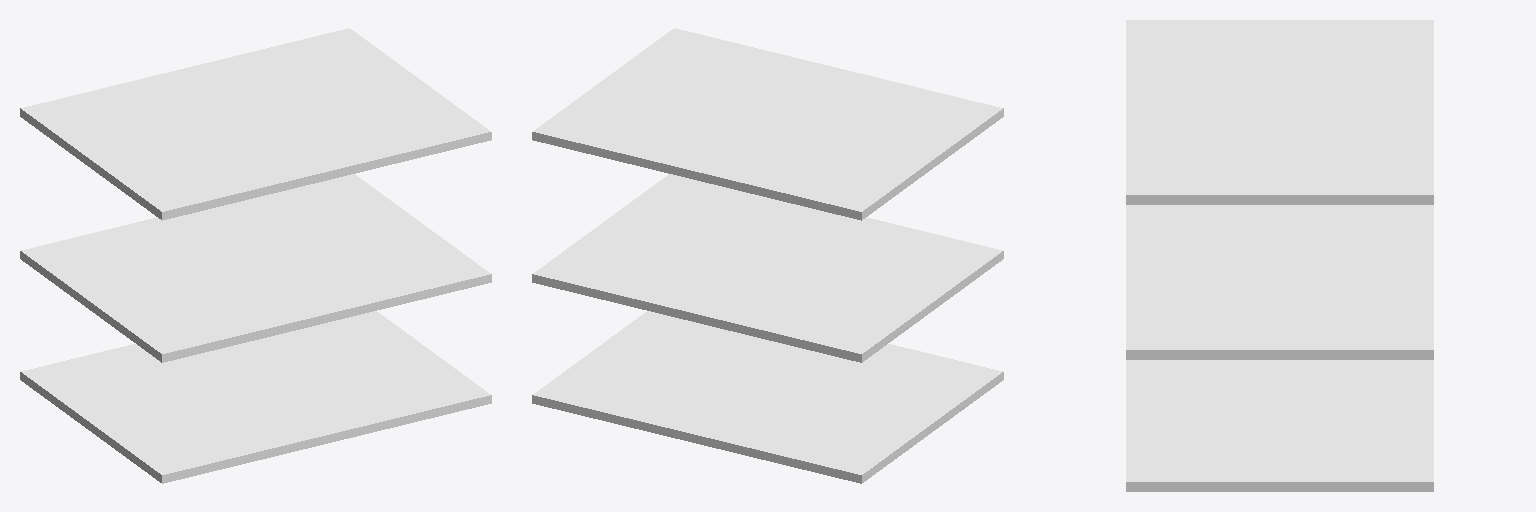
The robot description file, URDF, robot "shelf":
<?xml version="1.0" ?>
<robot name="shelf">
  <link name="baseLink">
    <contact>
      <lateral_friction value="1.0"/>
      <rolling_friction value="0.0"/>
      <contact_cfm value="0.0"/>
      <contact_erp value="1.0"/>
    </contact>
    <inertial>
      <origin rpy="0 0 0" xyz="0 0 0"/>
       <mass value="0"/>
       <inertia ixx="1" ixy="0" ixz="0" iyy="1" iyz="0" izz="1"/>
    </inertial>
    <visual>
      <origin rpy="0 0 0" xyz="0 0 0"/>
      <geometry>
		    <mesh filename="shelf.obj" scale="1 1 1"/>
      </geometry>
      <material name="white">
        <color rgba="1 1 1 1"/>
      </material>
    </visual>
    <collision concave="yes">
      <origin rpy="0 0 0" xyz="0 0 0"/>
      <geometry>
	      <mesh filename="shelf.obj" scale="1 1 1"/>
      </geometry>
    </collision>
  </link>
</robot>

--- Render facts (derived) ---
The picture shows the robot from 3 angles, left to right: view 1: azimuth 30°, elevation 25°; view 2: azimuth 150°, elevation 25°; view 3: azimuth 270°, elevation 25°; orthographic projection.
Model shelf with 1 links and 0 joints (none), rooted at baseLink, posed every joint at zero.
Visible links, largest first — view 1: baseLink; view 2: baseLink; view 3: baseLink.
Link boxes in pixels (x1,y1,x2,y2): baseLink: [20, 28, 491, 483]; baseLink: [532, 28, 1003, 483]; baseLink: [1126, 20, 1433, 491].
Bounding box of the posed robot: 1.61 × 1.2 × 1.27 m (x, y, z).
Meshes: 1 distinct files referenced, 1 mesh visuals loaded (1 OBJ).
